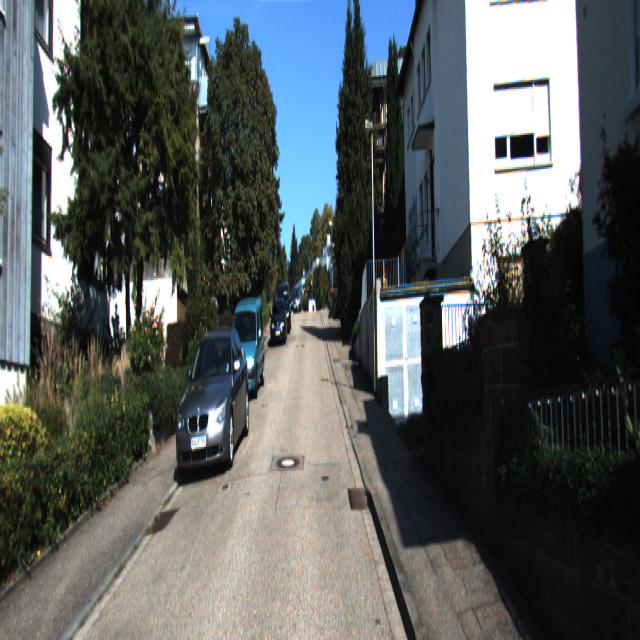Car: (170, 326, 252, 481), (225, 297, 266, 401), (276, 282, 292, 334), (270, 296, 288, 342)
